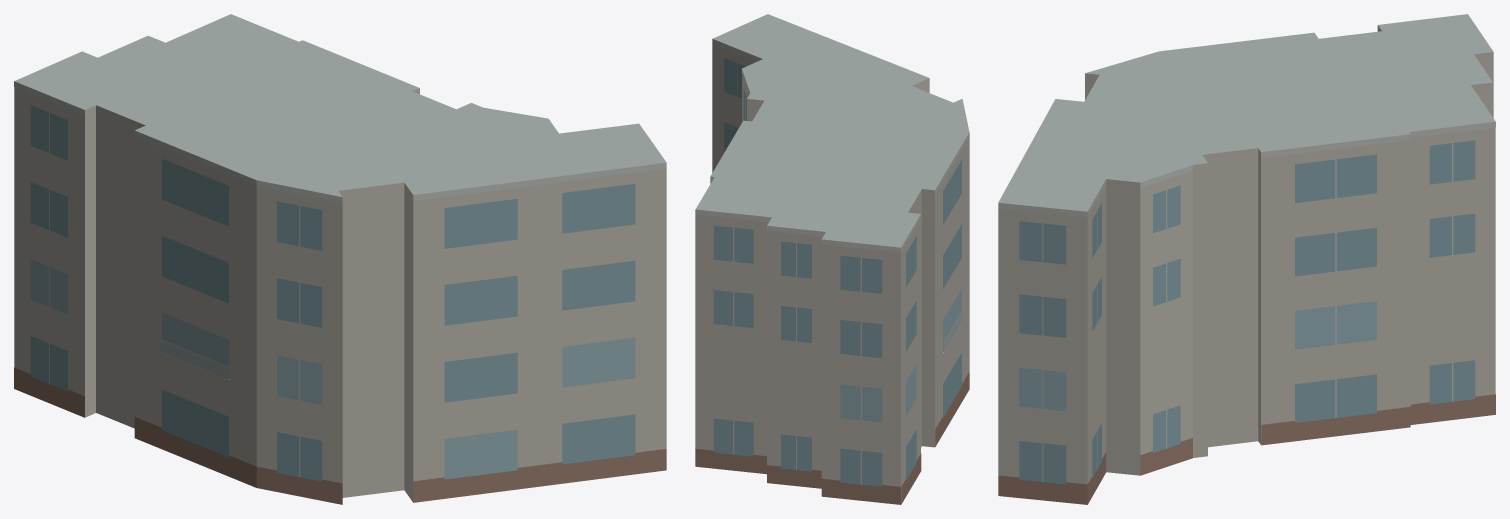
The model's file is survey-upis-32605331.glb.
The picture shows the model from 3 angles, left to right: view 1: azimuth 30°, elevation 25°; view 2: azimuth 150°, elevation 25°; view 3: azimuth 270°, elevation 25°; orthographic projection. The views are drawn at different scales.
Parts seen in each view (by area): view 1: survey-upis-32605331.tmp; view 2: survey-upis-32605331.tmp; view 3: survey-upis-32605331.tmp.
Boxes of the visible parts, left/top/right/bottom form: survey-upis-32605331.tmp: left=14, top=14, right=666, bottom=504; survey-upis-32605331.tmp: left=695, top=14, right=969, bottom=504; survey-upis-32605331.tmp: left=998, top=14, right=1495, bottom=504.
Size of the model in its own units: 18.24 by 12.6 by 19.39.
